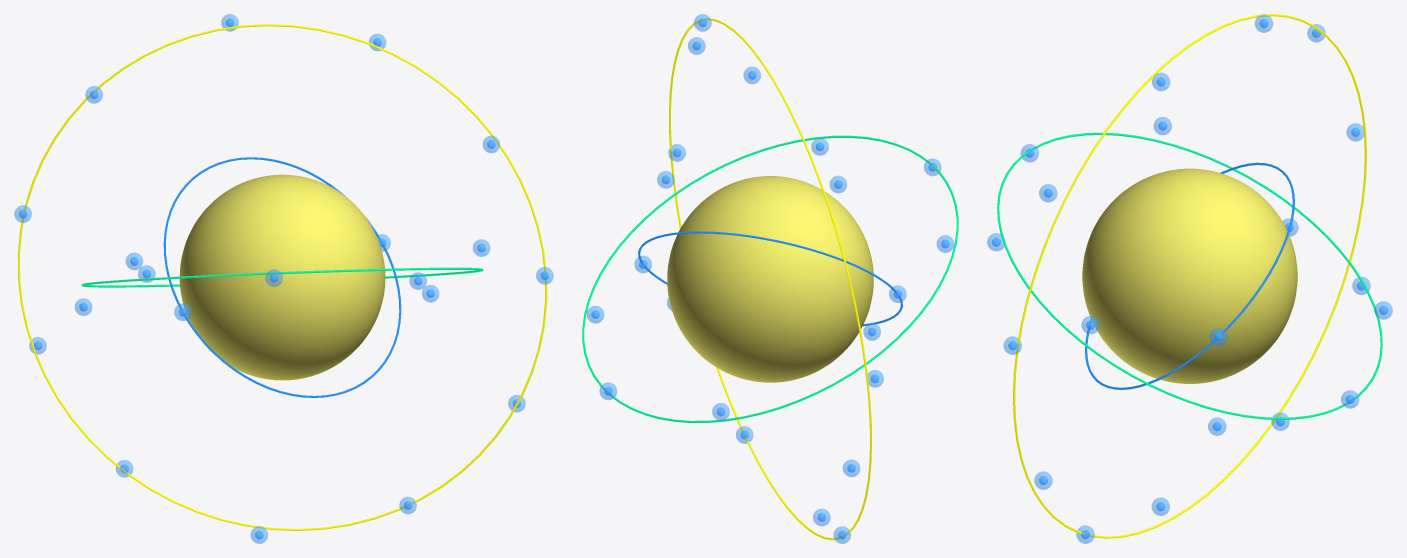
The picture shows the model from 3 angles, left to right: view 1: azimuth 30°, elevation 25°; view 2: azimuth 150°, elevation 25°; view 3: azimuth 270°, elevation 25°; orthographic projection. The views are drawn at different scales.
Visible parts, largest first — view 1: Sc, object 24, object 2, object 7; view 2: Sc, object 7, object 24, object 2; view 3: Sc, object 24, object 7, object 2.
Part boxes in pixels (x1,y1,x2,y2): Sc: [179, 174, 385, 380]; object 24: [17, 24, 547, 530]; object 2: [163, 157, 401, 397]; object 7: [81, 267, 483, 287]; Sc: [667, 176, 873, 382]; object 7: [582, 135, 958, 422]; object 24: [669, 18, 871, 540]; object 2: [638, 231, 902, 326]; Sc: [1082, 168, 1297, 383]; object 24: [1013, 14, 1366, 538]; object 7: [997, 132, 1382, 419]; object 2: [1085, 162, 1294, 389].
Bounding box in the file's own units: 3.88 × 4.84 × 3.49.
